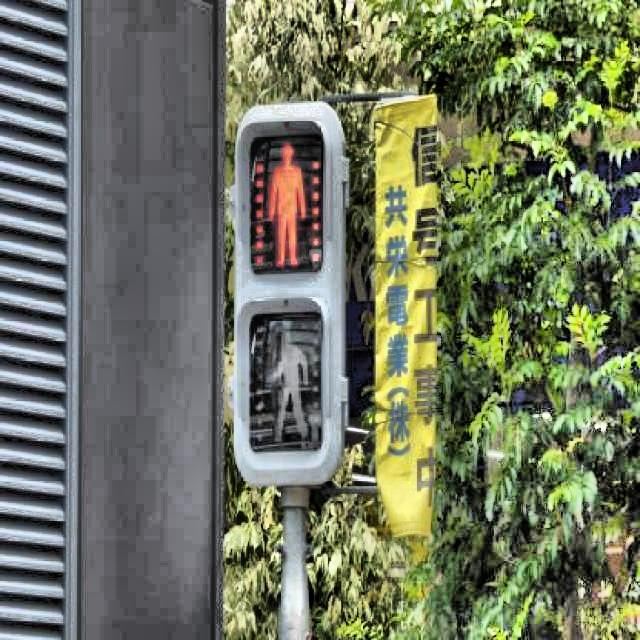semaforo pedestre: (166, 64, 418, 528)
